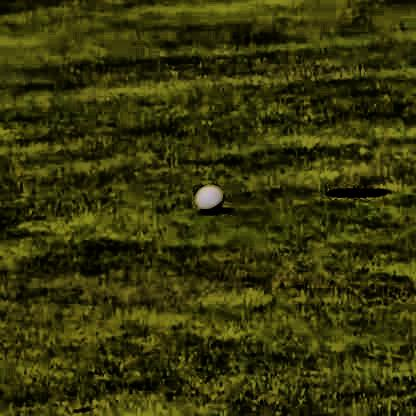golfball: (192, 181, 222, 211)
